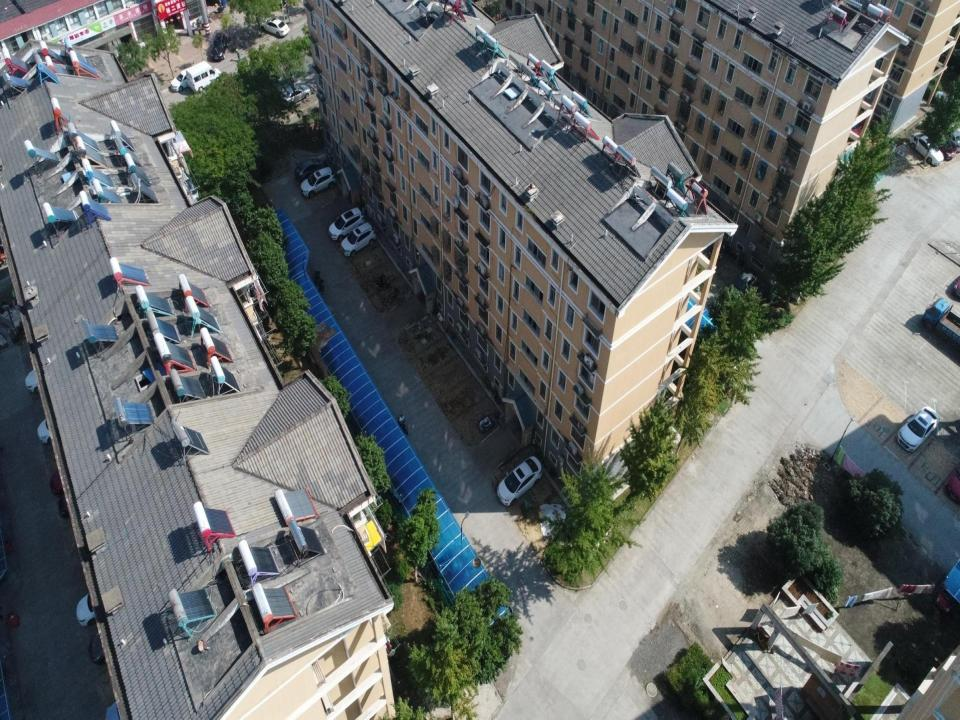car: (89, 626, 148, 665), (497, 456, 542, 505), (75, 589, 128, 627), (896, 407, 939, 452), (50, 468, 98, 496), (341, 222, 377, 257), (328, 207, 366, 240), (37, 414, 76, 446), (909, 131, 944, 166), (300, 166, 336, 198), (57, 491, 96, 518), (25, 369, 64, 395), (727, 268, 757, 300), (927, 129, 956, 160), (294, 157, 328, 182), (170, 66, 199, 92), (280, 84, 311, 108), (261, 16, 290, 37), (210, 33, 228, 61), (944, 126, 959, 152)
truck: (922, 297, 960, 347)
van: (186, 60, 221, 93)
